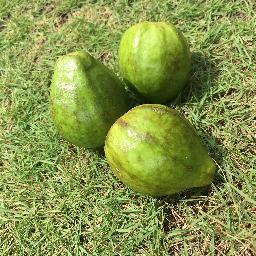Good_guava: (107, 103, 217, 199), (48, 48, 126, 155), (121, 19, 185, 98)
